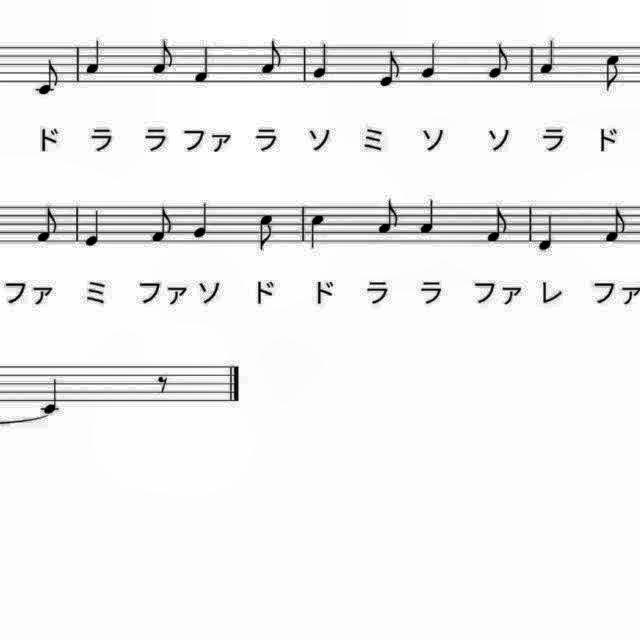Eighth-note: (600, 204, 634, 248), (482, 202, 514, 248), (30, 203, 62, 249), (33, 56, 66, 100), (148, 36, 180, 80), (256, 36, 288, 80), (148, 202, 178, 248), (598, 48, 626, 96), (484, 40, 514, 84), (371, 195, 401, 239), (375, 48, 405, 92), (254, 210, 282, 256)
Eighth-rest: (152, 368, 172, 396)
Quarter-note: (188, 42, 216, 88), (38, 377, 68, 419), (82, 205, 108, 252), (534, 211, 560, 257), (188, 198, 214, 242), (417, 40, 443, 84), (416, 194, 442, 238), (305, 210, 331, 254), (83, 36, 109, 78), (310, 40, 334, 84), (536, 36, 560, 80)
